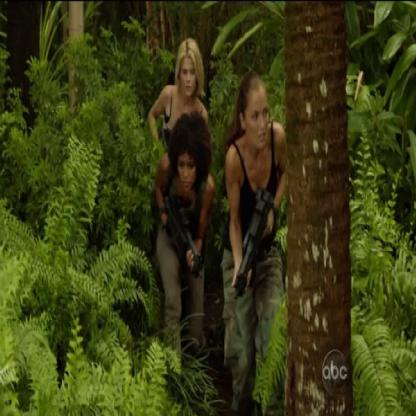Gun: (230, 187, 275, 293), (156, 188, 205, 282)
